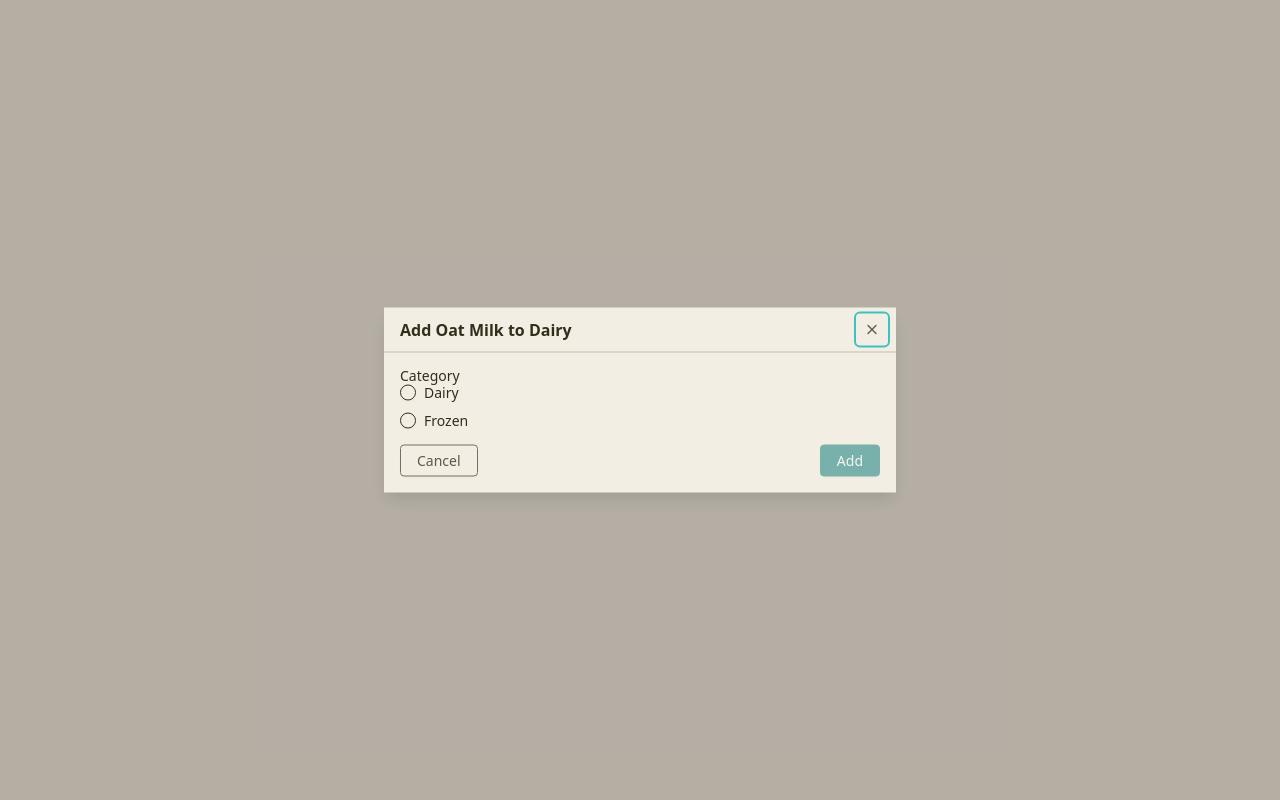
it: ShelfFilterPicksDialog › keeps the dialog open and shows an inline error when the write fails
The width and height of the screenshot is (1280, 800).
Click the radio button named "Frozen" next to "Frozen".
click(408, 420)  # box [400,412,416,428]
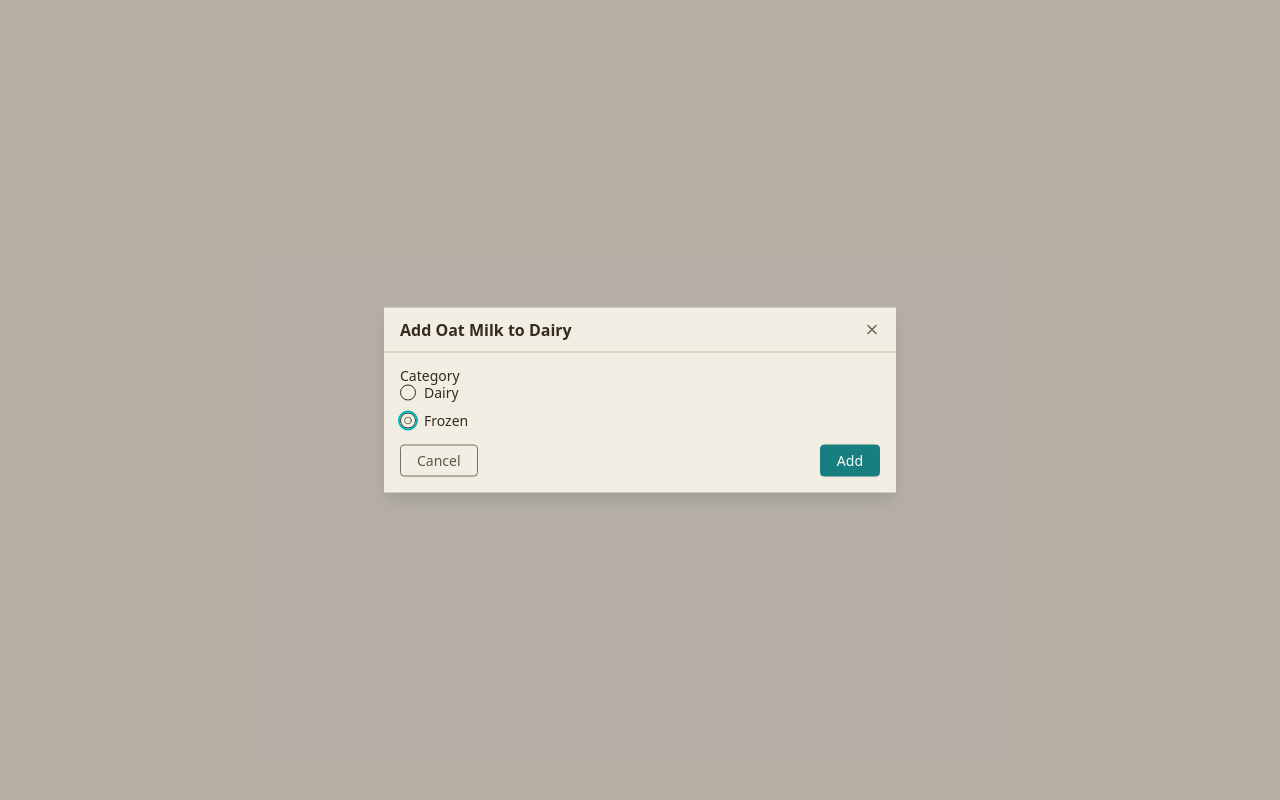
Click the button "Add".
click(850, 460)  # box [820,444,880,476]
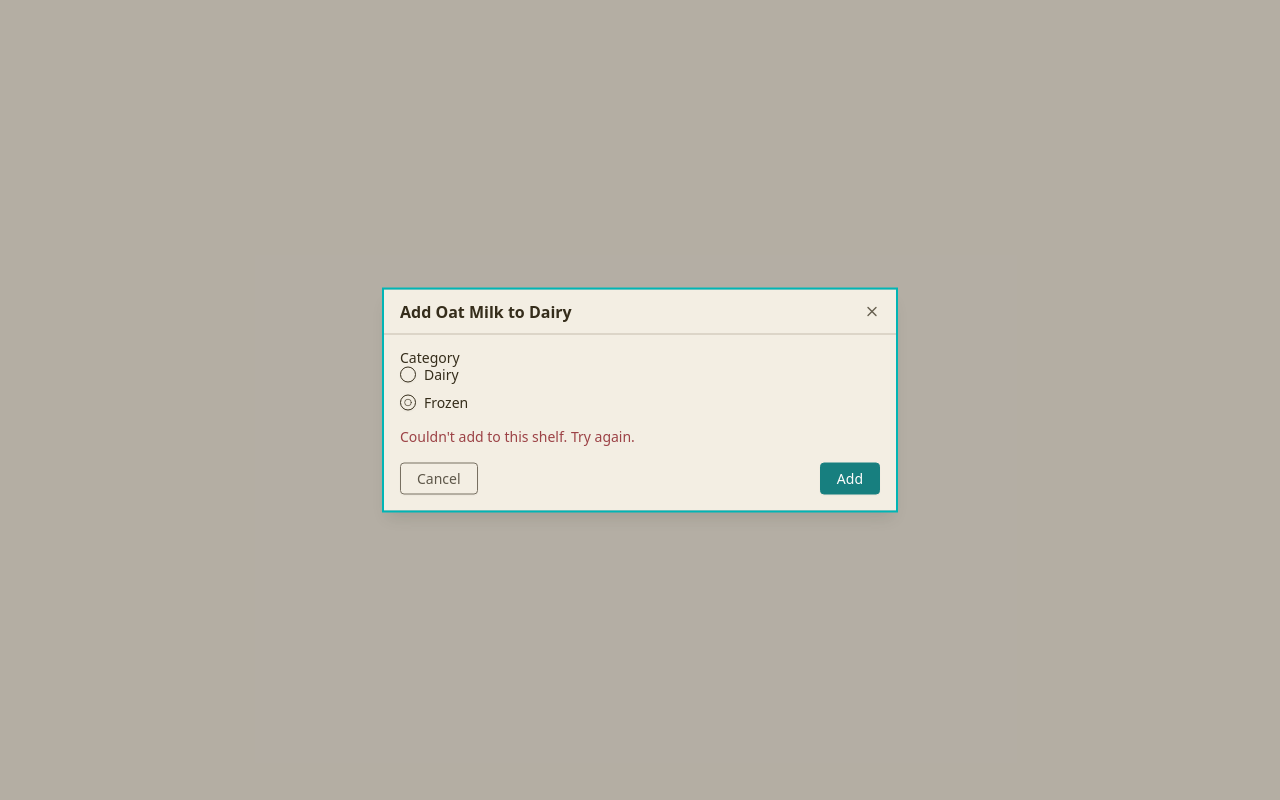
Check: the button "Add" is enabled, box [820,462,880,494]
Check: the text "Couldn't add to this shelf. Try again." is shown, box [400,426,635,446]
